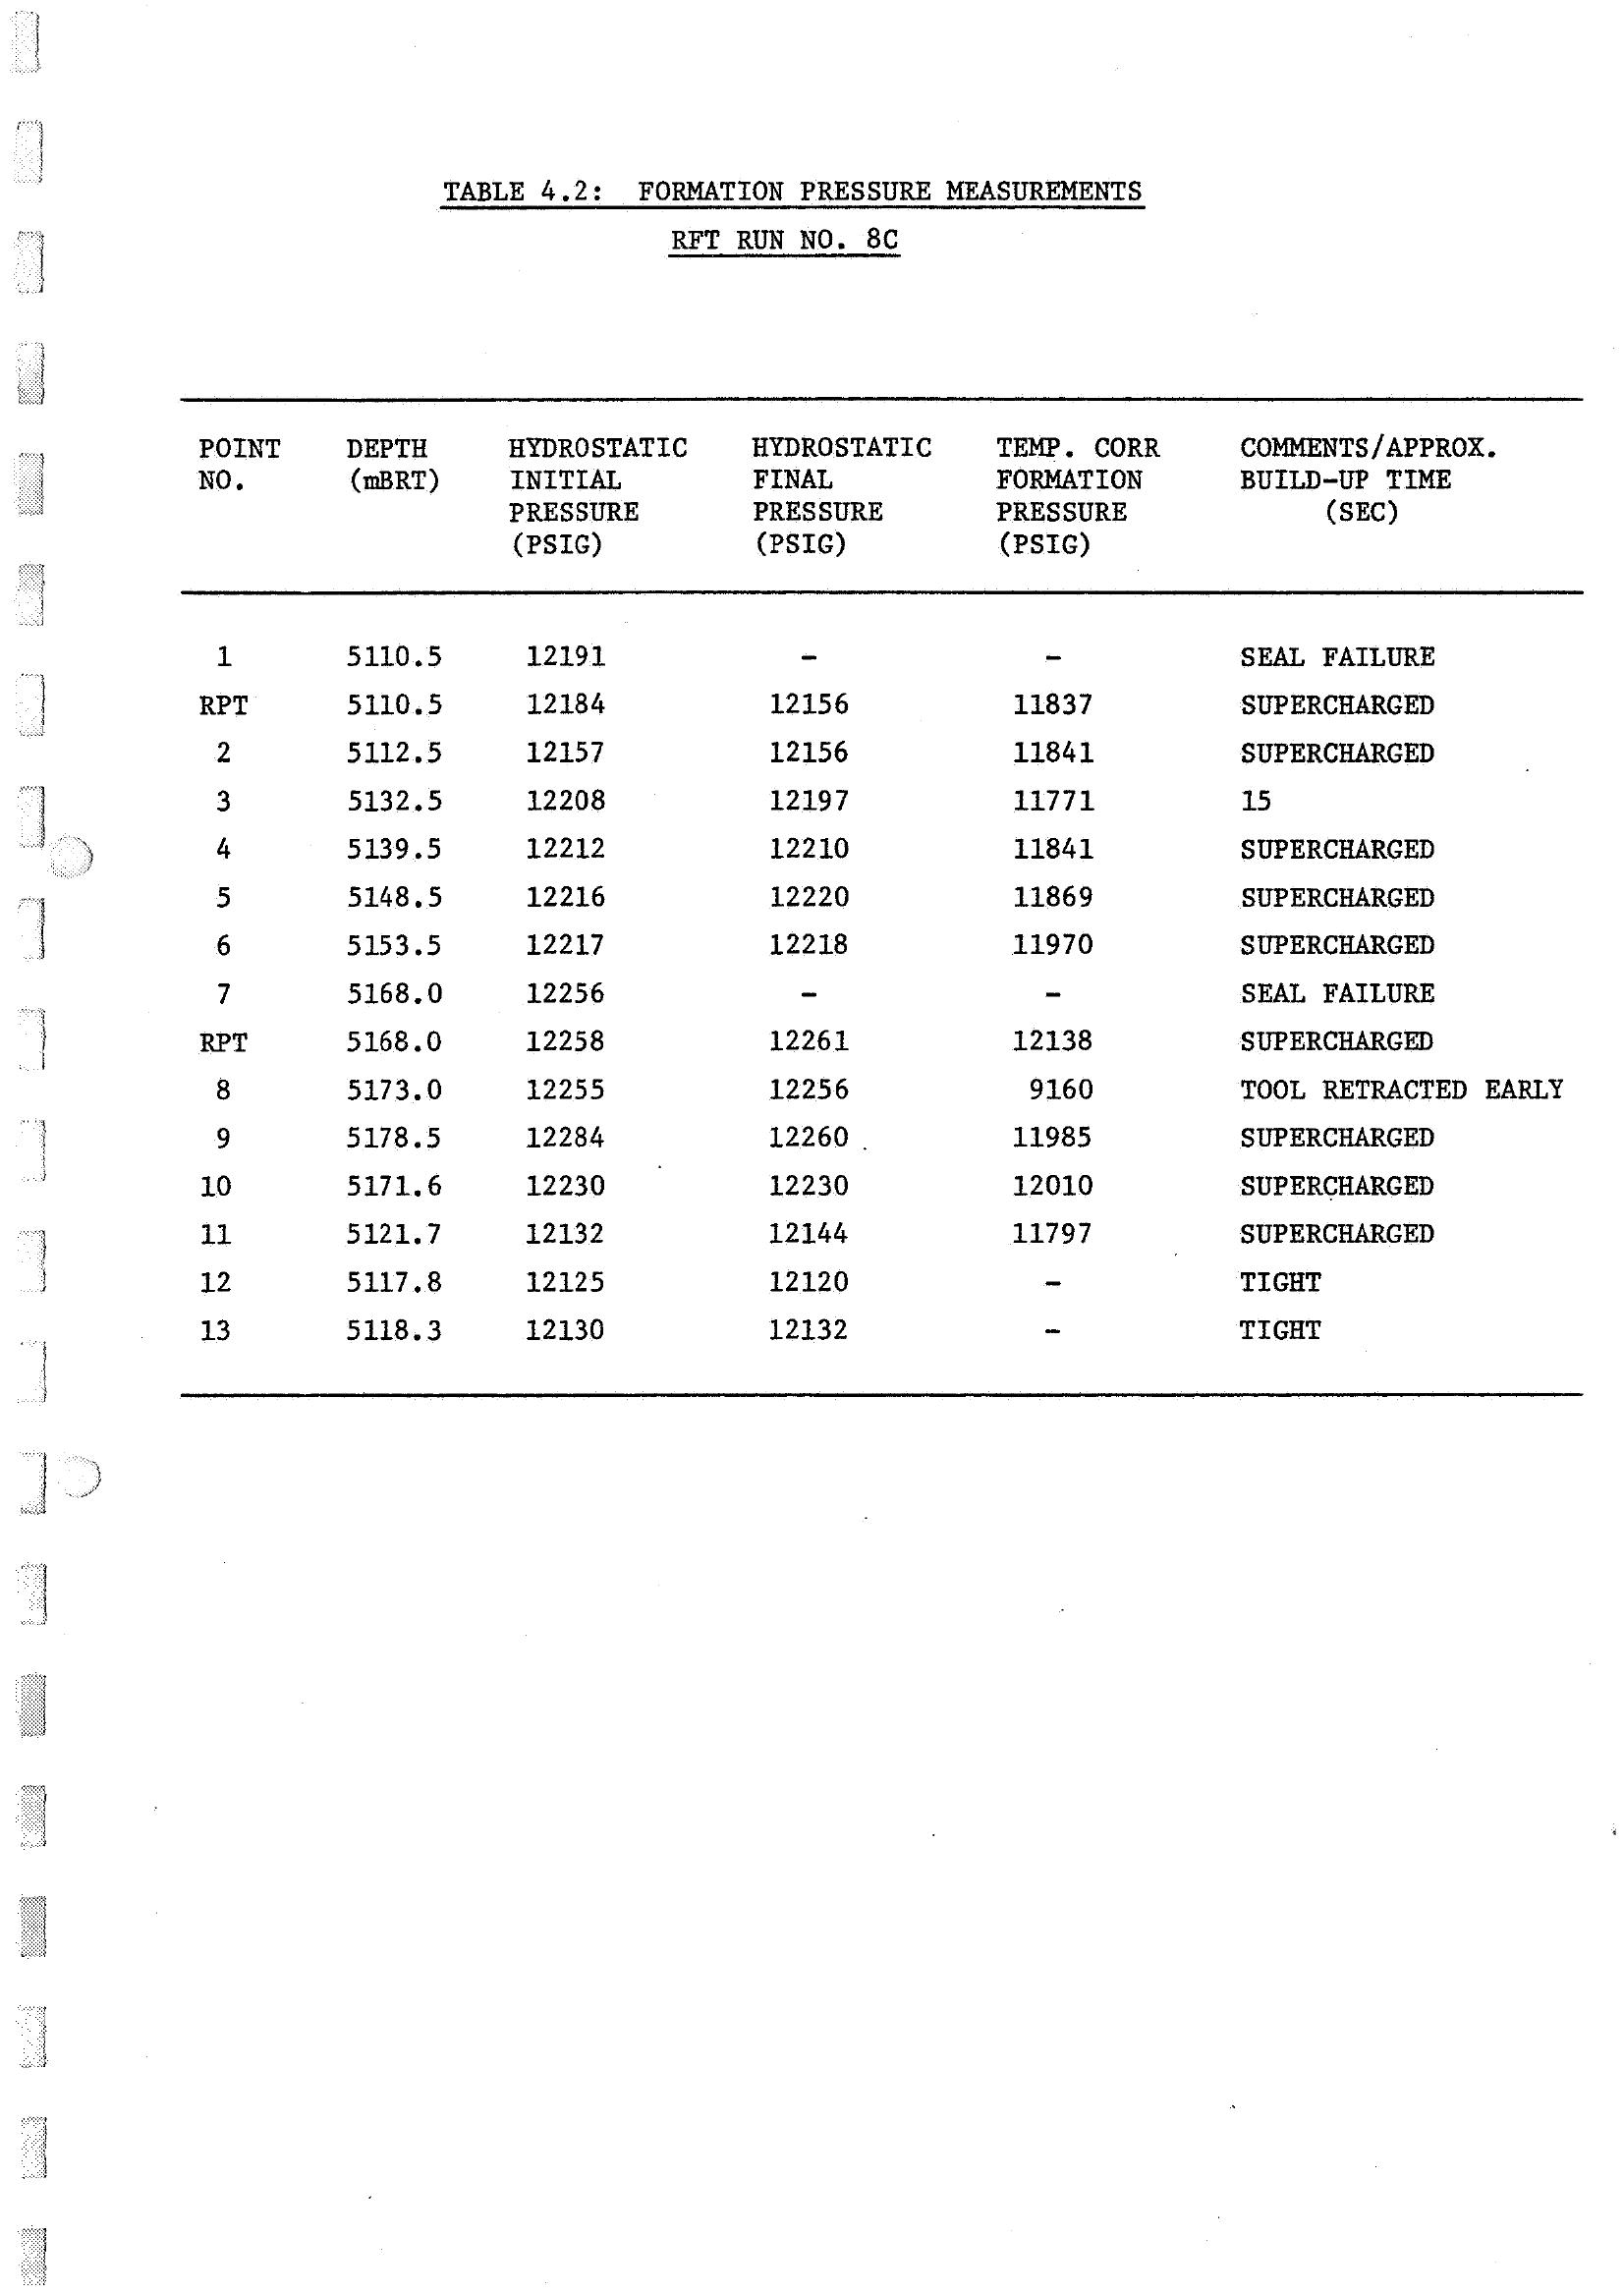table: (144, 169, 1606, 1434)
